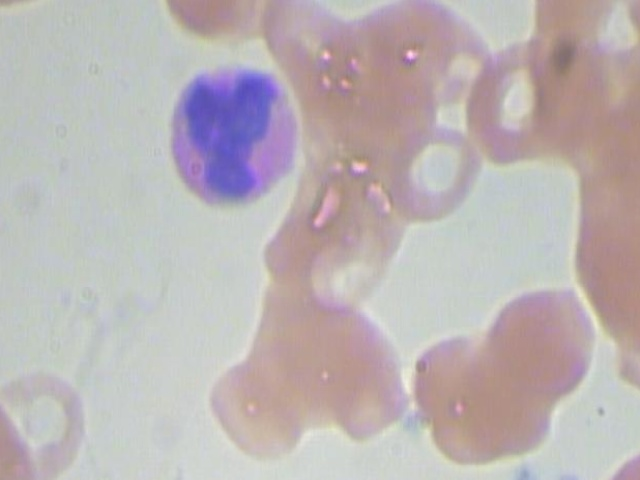Platelets: (510, 457, 549, 480), (547, 462, 587, 480)
RBC: (484, 270, 598, 404), (455, 35, 566, 172), (312, 319, 411, 447), (403, 318, 502, 445), (208, 349, 314, 465), (0, 354, 95, 480), (386, 114, 485, 225), (255, 0, 358, 103)
WBC: (150, 44, 309, 226)
